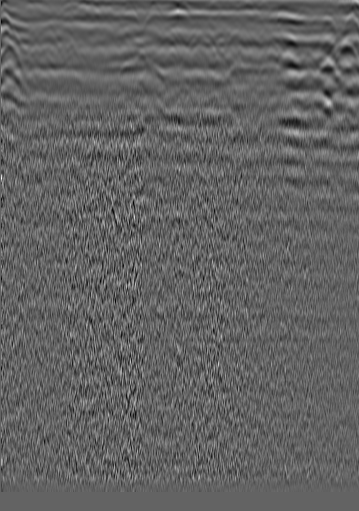가스: (118, 119, 153, 155)
상수: (282, 32, 302, 52)
오수: (37, 35, 57, 55)
우수: (173, 30, 193, 50)
